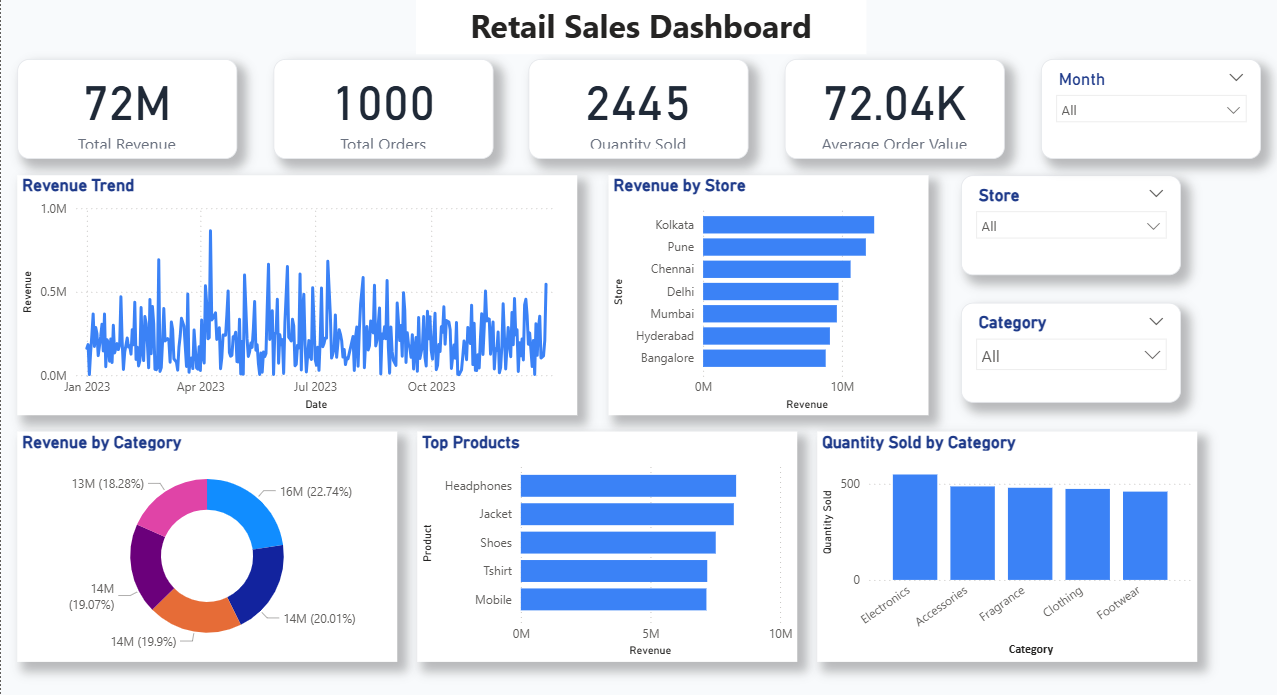

The page's visual inventory and layout, read from the dashboard file:
{"tool":"powerbi","page":{"name":"Executive Dashboard","canvas":[1280,720],"ordinal":0},"visuals":[{"type":"card","fields":{"Values":["retail_sales.Revenue"]},"box":[16,60,220,100],"z":0},{"type":"card","fields":{"Values":["retail_sales.Orders"]},"box":[272,60,220,100],"z":1000},{"type":"card","fields":{"Values":["retail_sales.Quantity Sold"]},"box":[528,60,220,100],"z":2000},{"type":"card","fields":{"Values":["retail_sales.AOV"]},"box":[784,60,220,100],"z":3000},{"type":"lineChart","title":"Revenue Trend","fields":{"Category":["retail_sales.Date"],"Y":["retail_sales.Revenue"]},"box":[16,176,560,240],"z":4000},{"type":"clusteredBarChart","title":"Revenue by Store","fields":{"Category":["retail_sales.Store"],"Y":["retail_sales.Revenue"]},"box":[608,176,320,240],"z":5000},{"type":"donutChart","fields":{"Category":["retail_sales.Category"],"Y":["retail_sales.Revenue"]},"box":[16,432,380,230],"z":6000},{"type":"clusteredBarChart","title":"Top Products","fields":{"Category":["retail_sales.Product"],"Y":["retail_sales.Revenue"]},"box":[416,432,380,230],"z":7000},{"type":"clusteredColumnChart","fields":{"Category":["retail_sales.Category"],"Y":["retail_sales.Quantity Sold"]},"box":[816,432,380,230],"z":8000},{"type":"slicer","fields":{"Values":["retail_sales.Store"]},"box":[960,176,220,100],"z":9000},{"type":"slicer","fields":{"Values":["retail_sales.Category"]},"box":[960,304,220,100],"z":10000},{"type":"slicer","fields":{"Values":["retail_sales.Date.Variation.Date Hierarchy.Month"]},"box":[1040,60,220,100],"z":11000},{"type":"textbox","box":[415,0,450,55],"z":11001}]}

Visuals, with their boxes on the page's 1280x720 design canvas (x1, y1, x2, y2). These are canvas units, not pixel positions in the 1277x695 screenshot, which may show the page scaled, cropped or inside an application window:
card - retail_sales.Revenue: select_region(16, 60, 236, 160)
card - retail_sales.Orders: select_region(272, 60, 492, 160)
card - retail_sales.Quantity Sold: select_region(528, 60, 748, 160)
card - retail_sales.AOV: select_region(784, 60, 1004, 160)
"Revenue Trend" lineChart: select_region(16, 176, 576, 416)
"Revenue by Store" clusteredBarChart: select_region(608, 176, 928, 416)
donutChart - retail_sales.Category x retail_sales.Revenue: select_region(16, 432, 396, 662)
"Top Products" clusteredBarChart: select_region(416, 432, 796, 662)
clusteredColumnChart - retail_sales.Category x retail_sales.Quantity Sold: select_region(816, 432, 1196, 662)
slicer - retail_sales.Store: select_region(960, 176, 1180, 276)
slicer - retail_sales.Category: select_region(960, 304, 1180, 404)
slicer - retail_sales.Date.Variation.Date Hierarchy.Month: select_region(1040, 60, 1260, 160)
textbox: select_region(415, 0, 865, 55)
